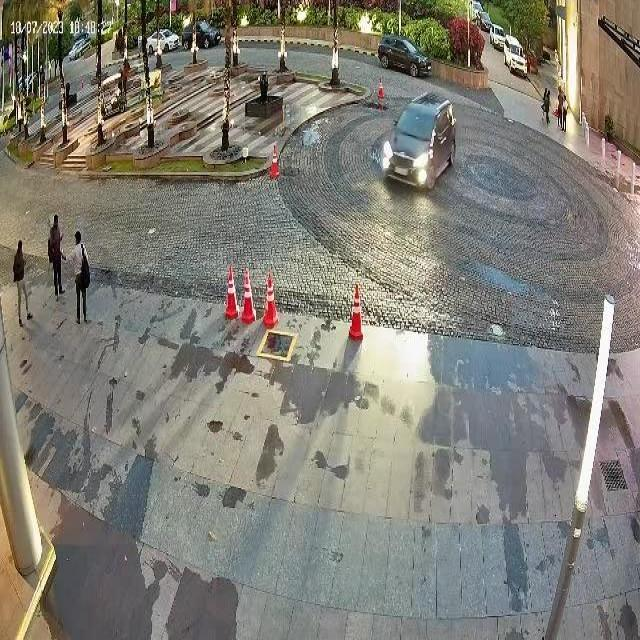person: (69, 227, 95, 324), (13, 240, 32, 327), (51, 206, 66, 294)
